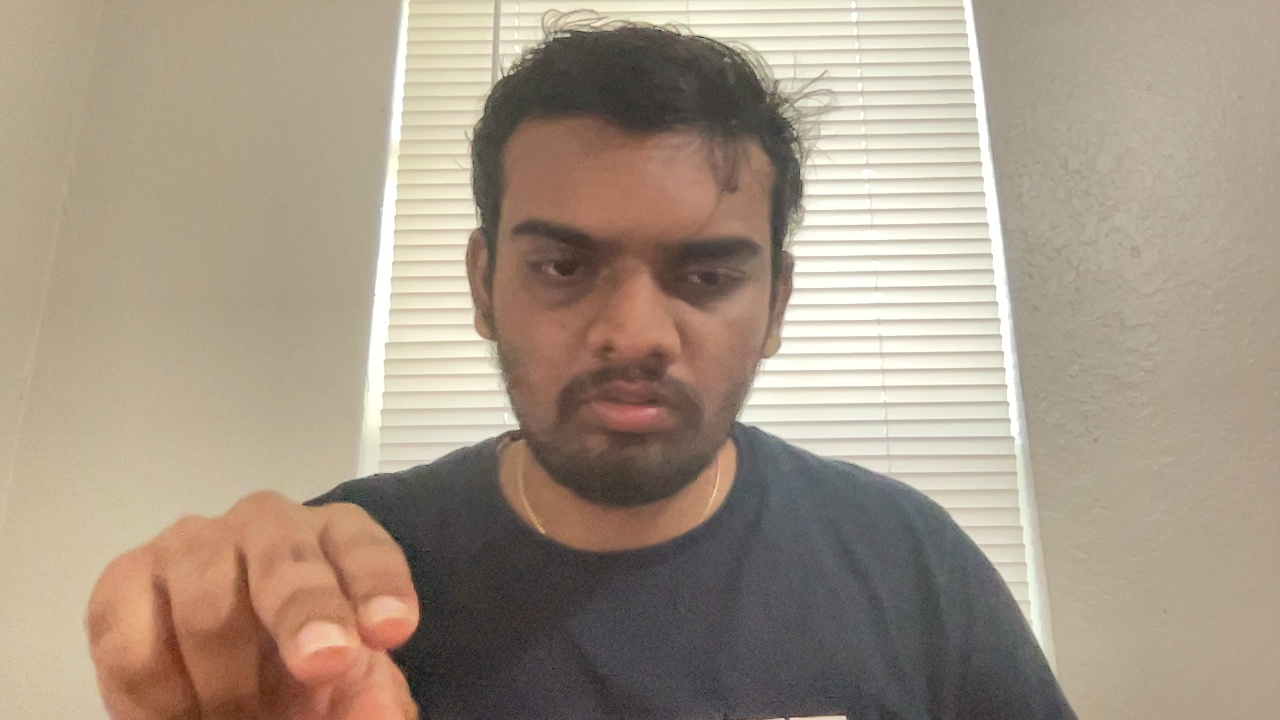no: (75, 486, 428, 720)
